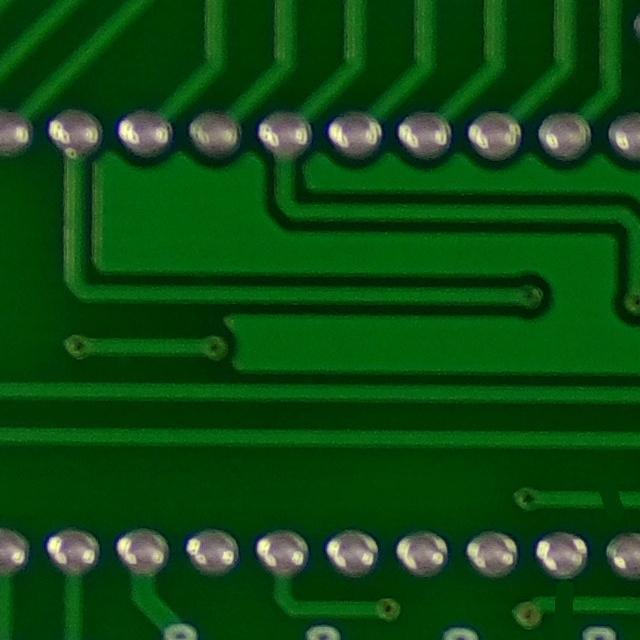open_circuit: (591, 479, 631, 518), (547, 585, 583, 623)
